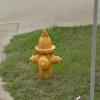Hydrant: (24, 22, 62, 76)
